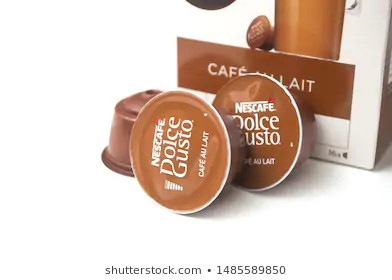nescafe-dolce: (131, 91, 233, 214), (222, 70, 309, 193)
